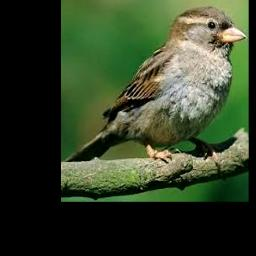Sparrow: (65, 6, 247, 167)
